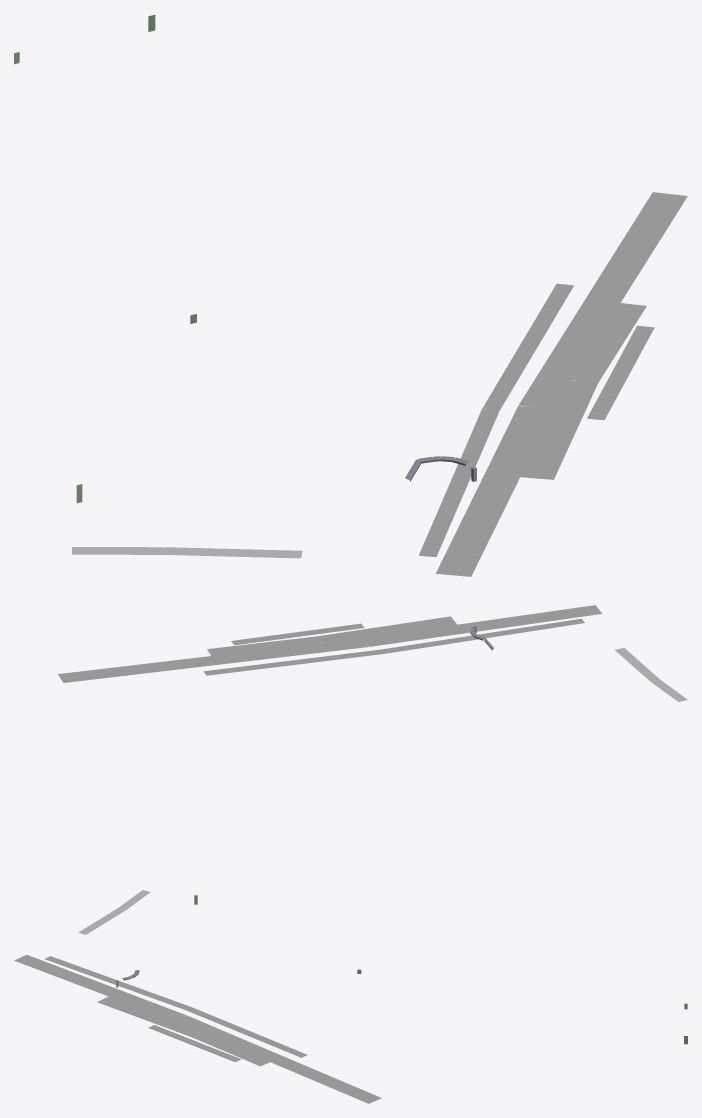
3 renders of one model, top to bottom at view 1: azimuth 30°, elevation 25°; view 2: azimuth 150°, elevation 25°; view 3: azimuth 270°, elevation 25°, orthographic. The views are drawn at different scales.
Size of the model in its own units: 370 by 8.89 by 495.
